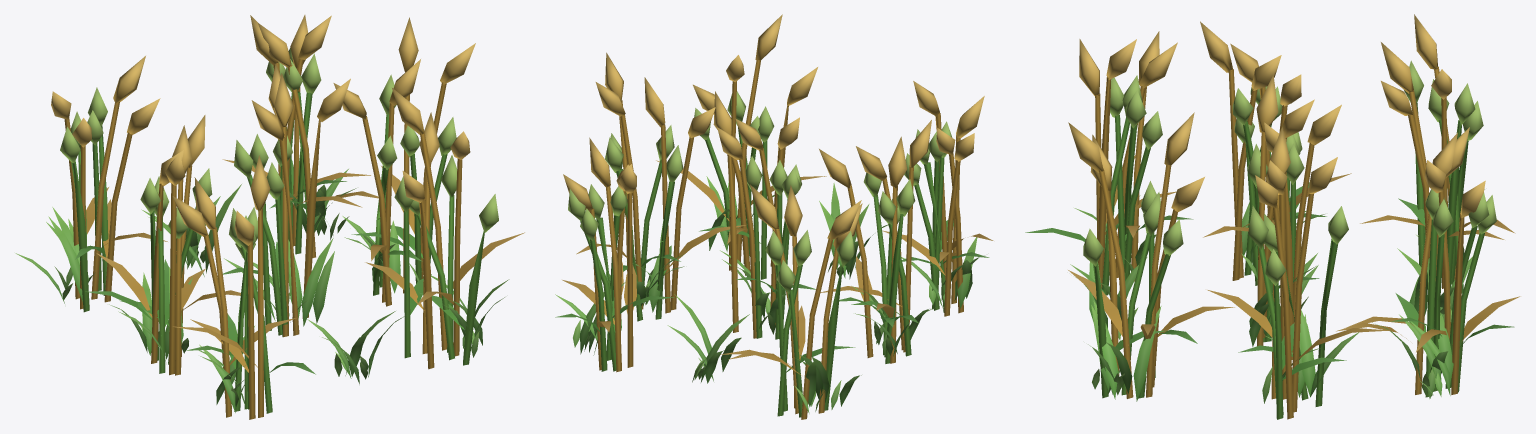
The picture shows the model from 3 angles, left to right: view 1: azimuth 30°, elevation 25°; view 2: azimuth 150°, elevation 25°; view 3: azimuth 270°, elevation 25°; orthographic projection. The views are drawn at different scales.
Parts seen in each view (by area): view 1: stage3, stage2, stage1, stage0; view 2: stage3, stage2, stage1, stage0; view 3: stage3, stage2, stage1, stage0.
Part boxes in pixels (bbox=[...]): stage3: bbox=[51, 15, 524, 419]; stage2: bbox=[60, 48, 498, 413]; stage1: bbox=[15, 169, 509, 412]; stage0: bbox=[54, 213, 479, 406]; stage3: bbox=[562, 14, 993, 419]; stage2: bbox=[555, 91, 989, 417]; stage1: bbox=[555, 176, 984, 407]; stage0: bbox=[573, 233, 957, 413]; stage3: bbox=[1068, 14, 1520, 419]; stage2: bbox=[1025, 60, 1514, 419]; stage1: bbox=[1070, 188, 1484, 401]; stage0: bbox=[1092, 235, 1464, 403].
Bounding box in the file's own units: 1.37 × 0.8953 × 1.5.
